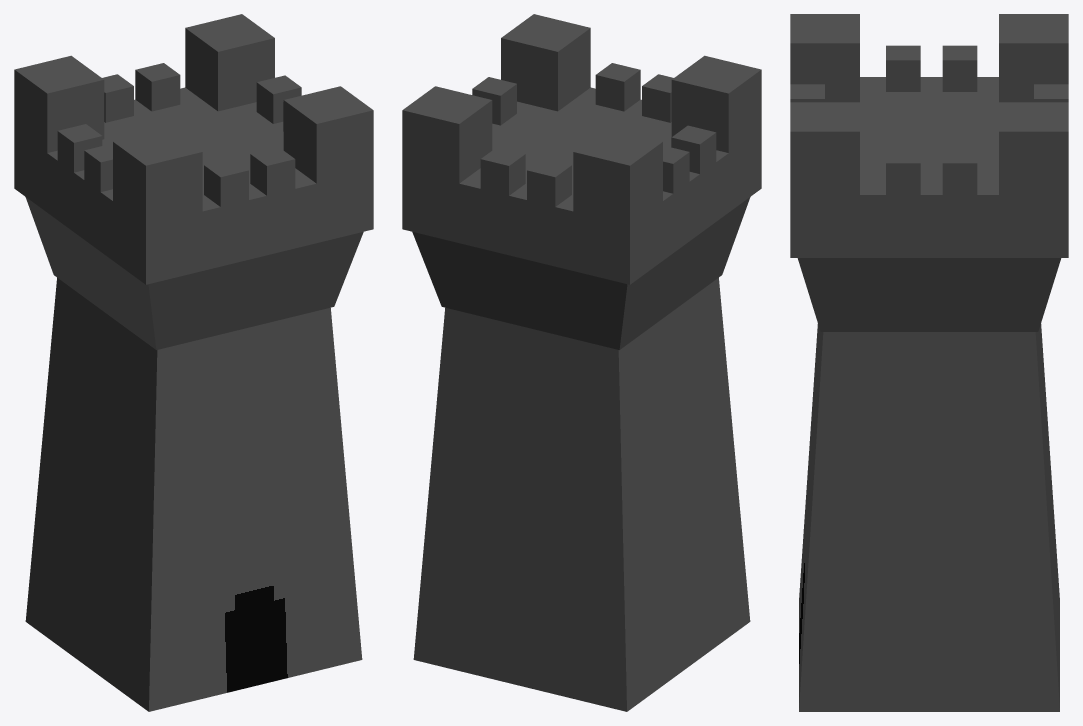
Rendered from castle.glb.
3 renders of one model, left to right at view 1: azimuth 30°, elevation 25°; view 2: azimuth 150°, elevation 25°; view 3: azimuth 270°, elevation 25°, orthographic. The views are drawn at different scales.
Visible parts, largest first — view 1: group; view 2: group; view 3: group.
Part boxes in pixels (x1,y1,x2,y2): group: (14, 14, 373, 711); group: (402, 14, 761, 711); group: (790, 14, 1068, 711).
Size of the model in its own units: 2 by 4.62 by 2.
1 material, 1 textured.
